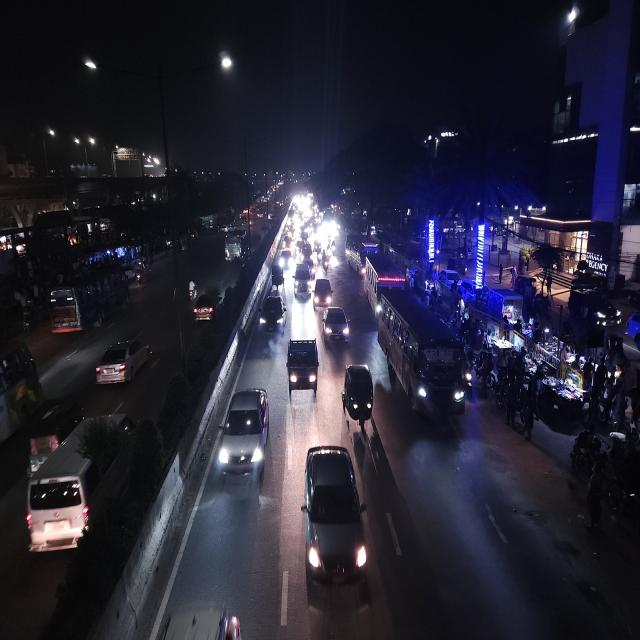bus: (377, 286, 473, 428), (47, 263, 131, 338), (0, 338, 41, 470), (363, 252, 405, 316), (344, 233, 378, 276), (223, 226, 248, 265)
car: (299, 439, 369, 597), (22, 471, 92, 557), (216, 383, 272, 488), (92, 329, 155, 391), (321, 302, 351, 348), (258, 289, 286, 336), (190, 289, 222, 328), (293, 260, 313, 302), (312, 276, 334, 310), (442, 268, 462, 290), (295, 240, 311, 262), (278, 247, 294, 268)
cng: (340, 359, 376, 436), (270, 264, 286, 294)
motorcycle: (186, 276, 198, 303), (134, 265, 144, 287), (322, 250, 328, 277)
pickup_van: (286, 334, 320, 400)
truck: (286, 335, 320, 399)
